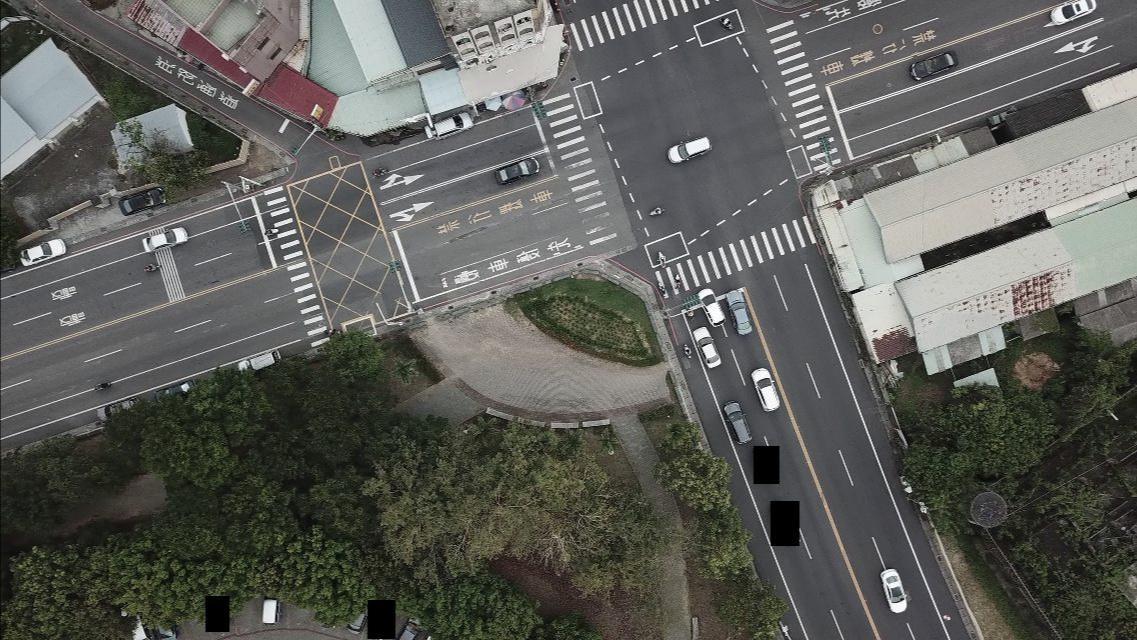vehicle: (421, 108, 475, 142), (908, 48, 958, 82), (491, 155, 541, 188), (117, 185, 167, 217), (16, 238, 67, 269), (664, 134, 712, 164), (722, 398, 752, 445), (91, 396, 143, 423), (750, 367, 780, 413), (152, 378, 198, 407), (1048, 0, 1097, 27), (692, 327, 721, 371), (140, 226, 189, 252), (236, 348, 282, 375), (725, 289, 752, 335), (880, 568, 907, 613), (697, 289, 726, 327), (344, 601, 370, 636), (151, 607, 177, 639), (259, 592, 280, 627), (397, 615, 425, 639)
